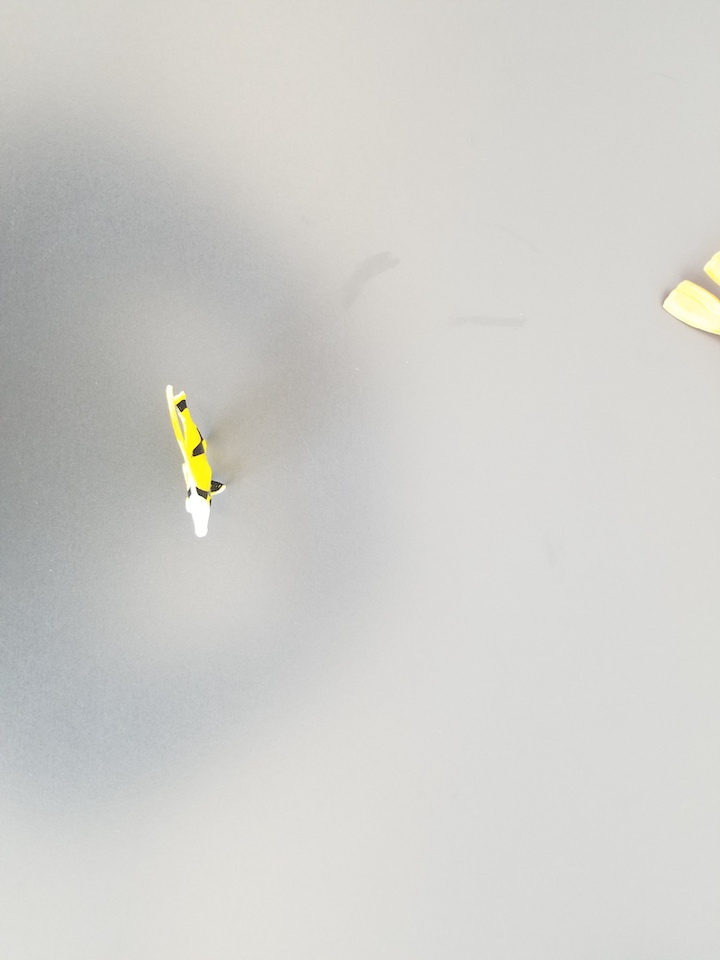danger: (164, 382, 228, 541)
diver: (662, 252, 720, 337)
